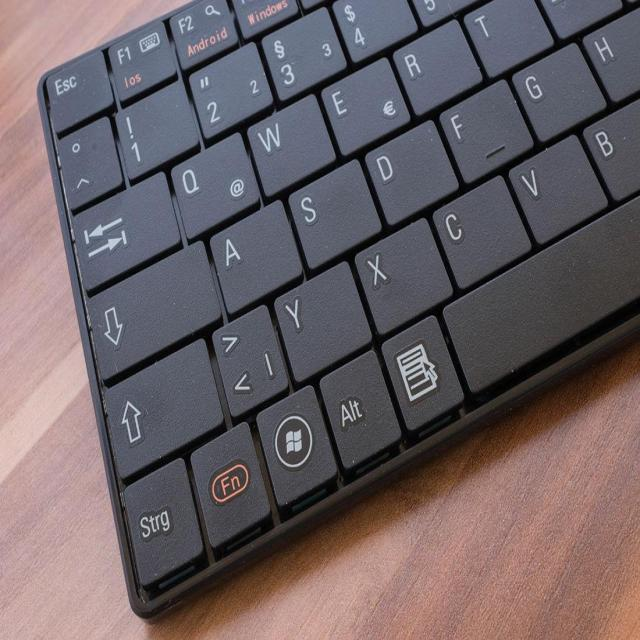1: (115, 72, 199, 178)
2: (187, 36, 273, 137)
3: (259, 1, 348, 101)
4: (330, 0, 418, 59)
a: (208, 195, 301, 312)
alt-left: (317, 344, 402, 468)
b: (581, 101, 638, 201)
c: (429, 171, 532, 287)
caret: (57, 111, 124, 210)
d: (362, 115, 458, 224)
e: (318, 54, 410, 153)
f: (439, 76, 534, 186)
g: (510, 41, 606, 151)
h: (583, 10, 636, 99)
keyboard: (34, 6, 635, 621)
less: (209, 298, 290, 418)
q: (167, 131, 261, 238)
r: (391, 14, 483, 113)
s: (286, 157, 380, 273)
shift-left: (101, 336, 226, 481)
shift-lock: (85, 239, 221, 383)
space: (438, 182, 636, 405)
strg-left: (121, 450, 207, 598)
t: (462, 0, 554, 72)
tab: (68, 169, 183, 292)
v: (507, 136, 607, 244)
w: (246, 91, 336, 195)
x: (351, 216, 451, 334)
y: (272, 258, 372, 381)
